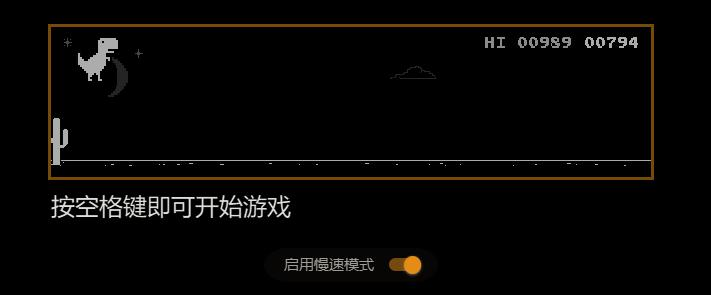cactus: (50, 117, 70, 167)
dino: (76, 37, 118, 83)
